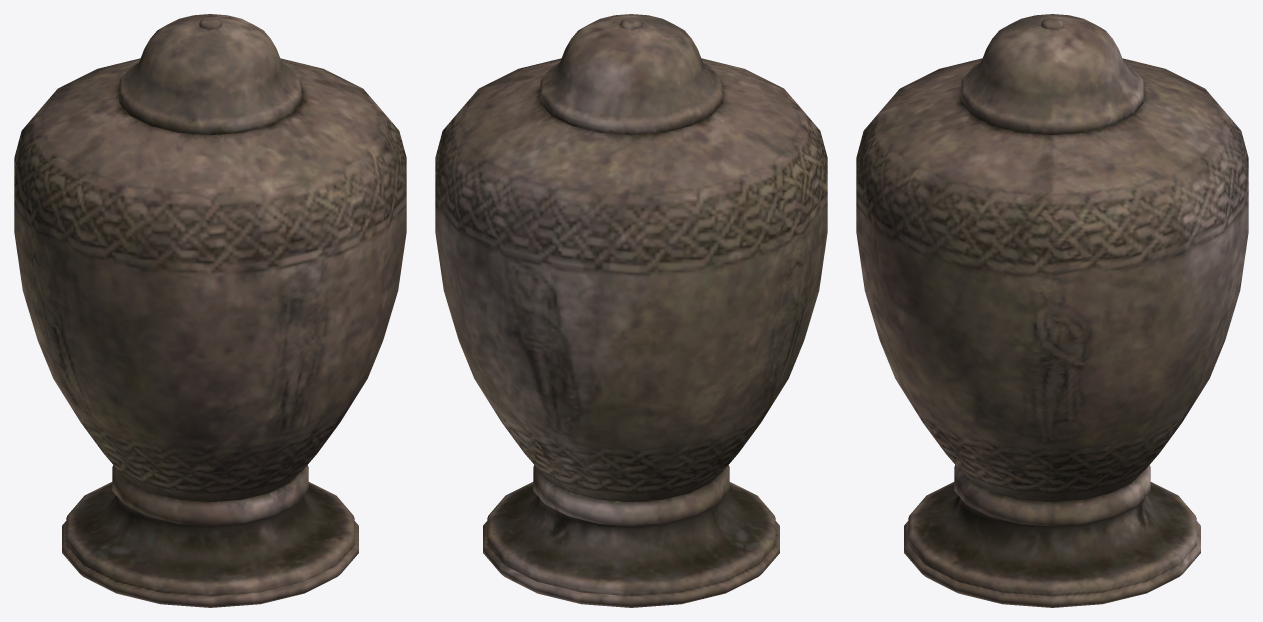
Rendered from SM_urn_02.fbx.
3 renders of one model, left to right at view 1: azimuth 30°, elevation 25°; view 2: azimuth 150°, elevation 25°; view 3: azimuth 270°, elevation 25°, orthographic.
Visible parts, largest first — view 1: SM_urn_02; view 2: SM_urn_02; view 3: SM_urn_02.
Boxes of the visible parts, left/top/right/bottom form: SM_urn_02: left=14, top=14, right=406, bottom=607; SM_urn_02: left=435, top=14, right=827, bottom=607; SM_urn_02: left=856, top=14, right=1248, bottom=607.
Bounding box in the file's own units: 31.92 × 46.53 × 31.44.
